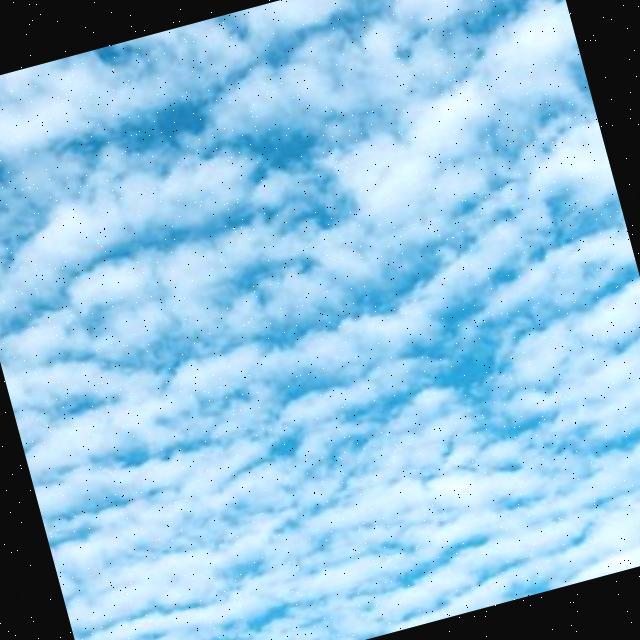Ac: (1, 1, 640, 614)
